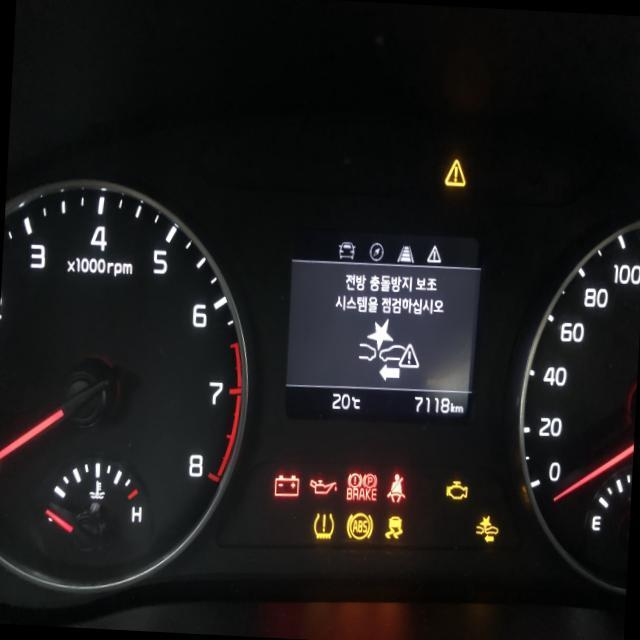Central Warning lamp: (442, 158, 468, 188)
